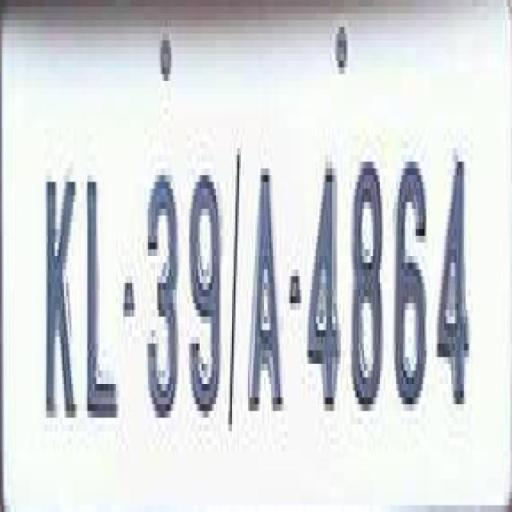number plate: (0, 0, 487, 506)
